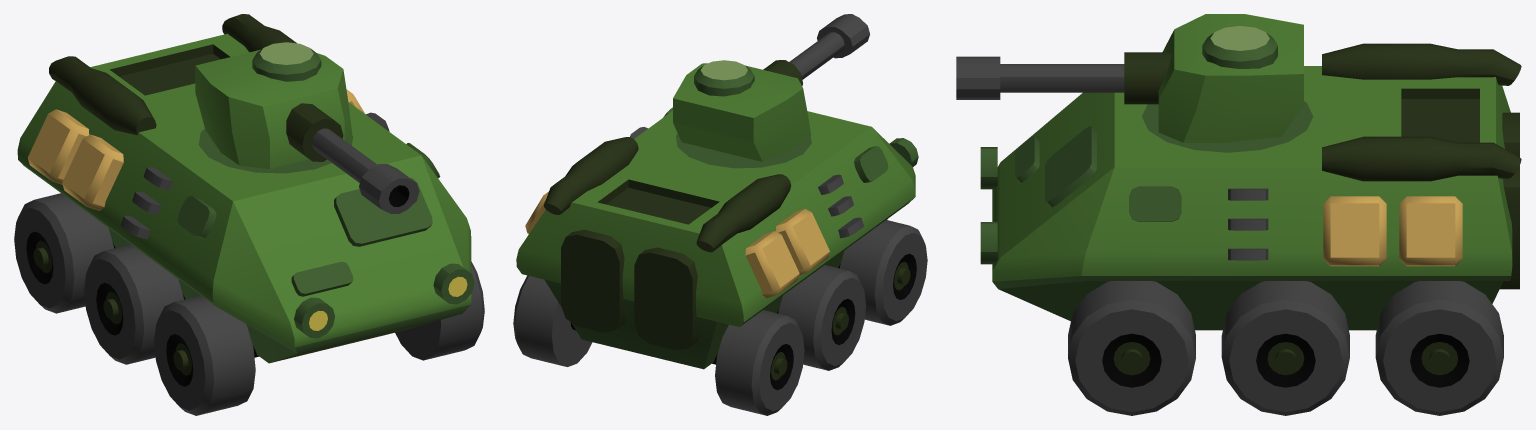
The model's file is Tank 1.fbx.
The picture shows the model from 3 angles, left to right: view 1: azimuth 30°, elevation 25°; view 2: azimuth 150°, elevation 25°; view 3: azimuth 270°, elevation 25°; orthographic projection. The views are drawn at different scales.
Parts seen in each view (by area): view 1: Cube.398, Cylinder.604, Cube.403, Cube.400, Cylinder.449, Cylinder.450, Cube.399, Cylinder.448, Cylinder.451, Cube.401, Cube.405, Cube.402; view 2: Cube.398, Cylinder.604, Cube.404, Cube.403, Cylinder.449, Cube.400, Cylinder.450, Cylinder.451, Cube.405, Cube.402, Cylinder.448; view 3: Cube.398, Cylinder.604, Cube.403, Cylinder.449, Cube.400, Cylinder.450, Cylinder.451, Cube.399, Cube.404, Cube.402, Cube.405, Cylinder.448 (+1 smaller).
Part boxes in pixels (left/top/right/bottom): Cube.398: left=17, top=33, right=471, bottom=363; Cylinder.604: left=14, top=193, right=484, bottom=415; Cube.403: left=195, top=49, right=352, bottom=168; Cube.400: left=27, top=89, right=364, bottom=210; Cylinder.449: left=49, top=14, right=296, bottom=135; Cylinder.450: left=286, top=103, right=419, bottom=213; Cube.399: left=334, top=178, right=432, bottom=246; Cylinder.448: left=294, top=263, right=474, bottom=338; Cylinder.451: left=252, top=42, right=321, bottom=81; Cube.401: left=291, top=261, right=353, bottom=296; Cube.405: left=121, top=112, right=389, bottom=239; Cube.402: left=177, top=143, right=440, bottom=237; Cube.398: left=516, top=111, right=915, bottom=369; Cylinder.604: left=513, top=220, right=927, bottom=415; Cube.404: left=561, top=229, right=699, bottom=350; Cube.403: left=673, top=63, right=811, bottom=161; Cylinder.449: left=544, top=137, right=791, bottom=252; Cube.400: left=525, top=191, right=829, bottom=298; Cylinder.450: left=763, top=14, right=869, bottom=85; Cylinder.451: left=694, top=60, right=754, bottom=96; Cube.405: left=630, top=127, right=863, bottom=238; Cube.402: left=663, top=107, right=888, bottom=182; Cylinder.448: left=889, top=138, right=918, bottom=166; Cube.398: left=992, top=66, right=1512, bottom=330; Cylinder.604: left=1068, top=281, right=1503, bottom=415; Cube.403: left=1158, top=14, right=1303, bottom=143; Cylinder.449: left=1322, top=43, right=1521, bottom=181; Cube.400: left=1323, top=196, right=1462, bottom=266; Cylinder.450: left=956, top=52, right=1171, bottom=104; Cylinder.451: left=1202, top=26, right=1277, bottom=68; Cube.399: left=1045, top=126, right=1096, bottom=207; Cube.404: left=1500, top=112, right=1519, bottom=289; Cube.402: left=1129, top=186, right=1181, bottom=221; Cube.405: left=1228, top=188, right=1268, bottom=260; Cylinder.448: left=980, top=147, right=997, bottom=264.
Size of the model in its own units: 803 by 756 by 1232.
